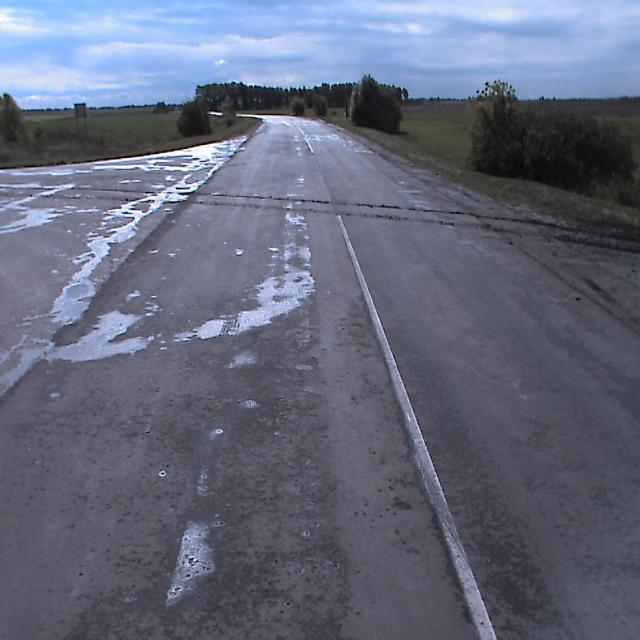road: (0, 113, 639, 639)
